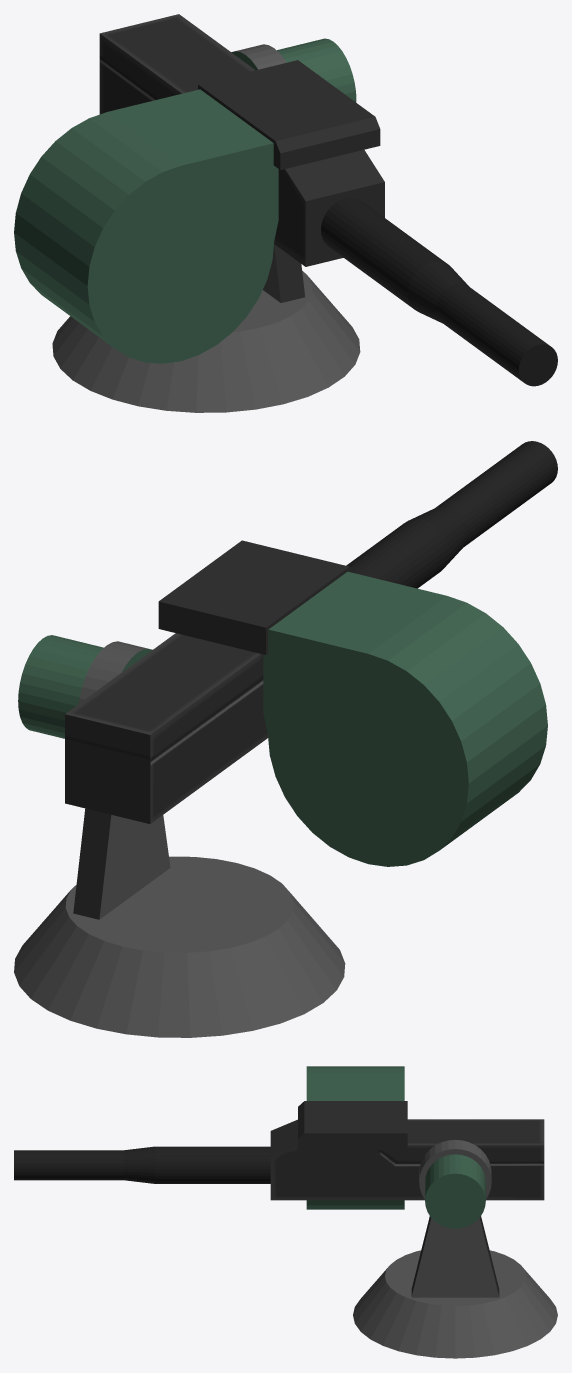
The model's file is AGL.glb.
The picture shows the model from 3 angles, top to bottom: view 1: azimuth 30°, elevation 25°; view 2: azimuth 150°, elevation 25°; view 3: azimuth 270°, elevation 25°; orthographic projection. The views are drawn at different scales.
Visible parts, largest first — view 1: barrel, turret; view 2: barrel, turret; view 3: barrel, turret.
Boxes of the visible parts, <box> form: barrel: <box>14,14,557,386</box>; turret: <box>52,38,360,412</box>; barrel: <box>65,441,557,866</box>; turret: <box>14,635,345,1037</box>; barrel: <box>14,1066,544,1209</box>; turret: <box>353,1139,557,1358</box>.
Bounding box in the file's own units: 0.616 × 0.4859 × 1.2.
Materials: 1 (1 with a texture image).
